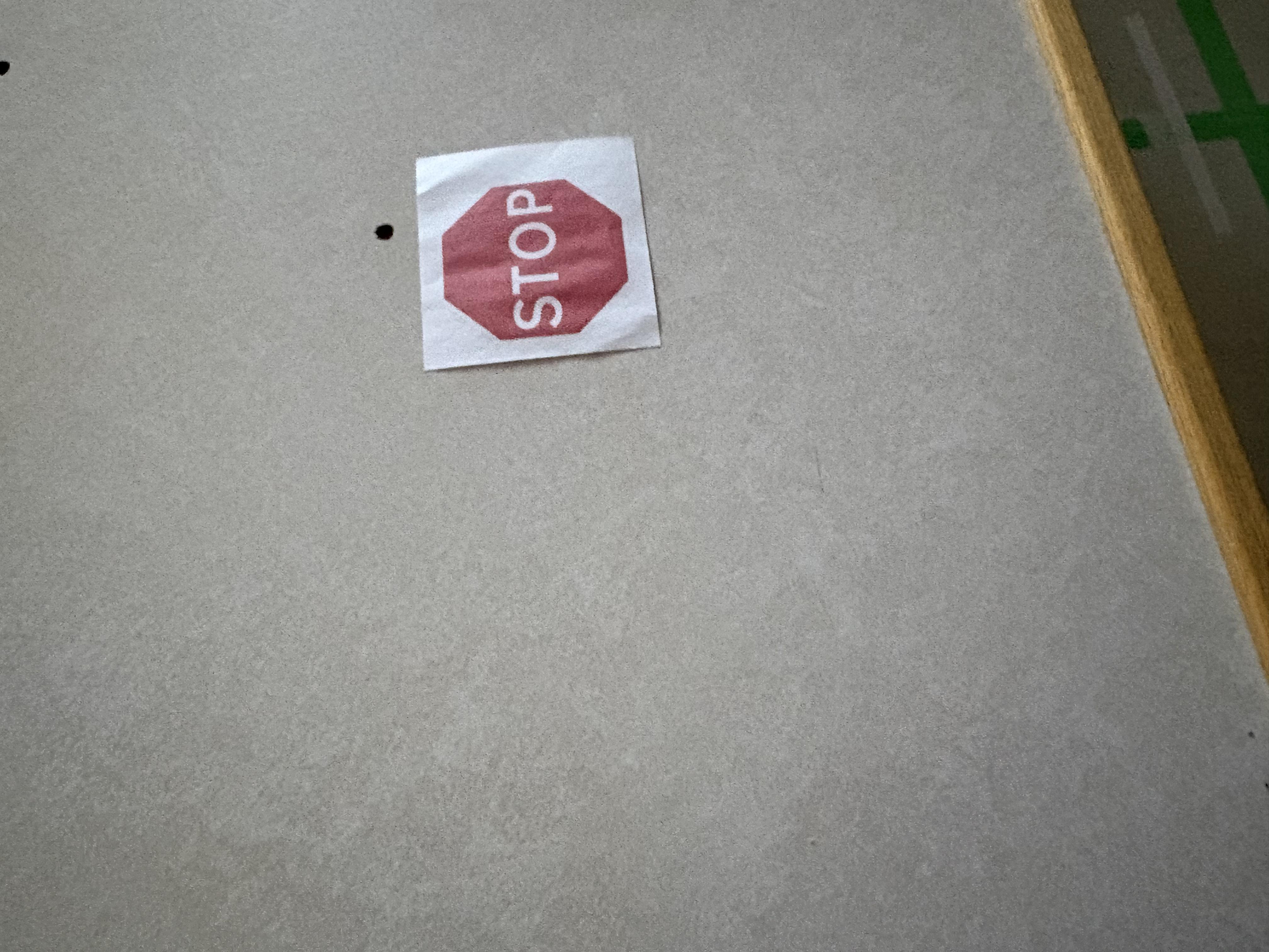Stop: (415, 138, 661, 375)
